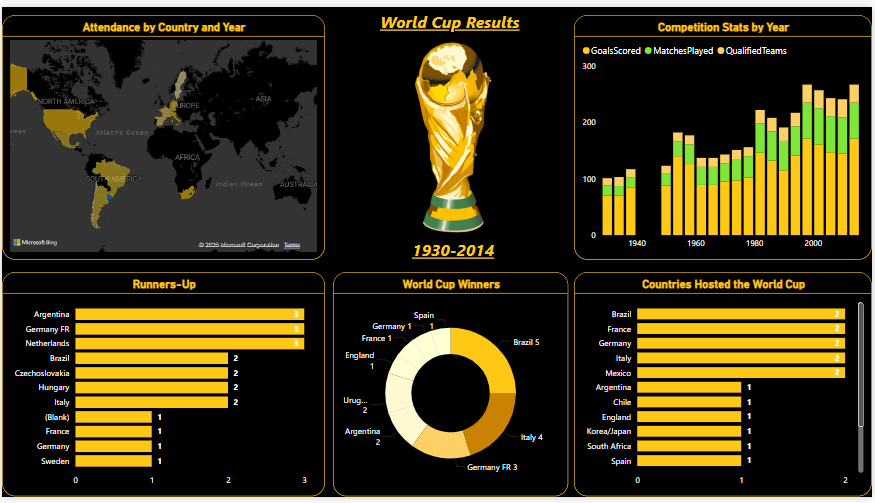

Layout of this report page (visuals, bound fields, positions):
{"tool":"powerbi","page":{"name":"Page 1","canvas":[1280,720],"ordinal":0},"visuals":[{"type":"image","box":[496.1,11.3,335.9,360],"z":0},{"type":"textbox","box":[535.7,0,246.6,48.2],"z":1000},{"type":"textbox","box":[535.7,335.9,256.5,48.2],"z":2000},{"type":"columnChart","title":"Competition Stats by Year","fields":{"Y":["Sum(WorldCups.GoalsScored)","Sum(WorldCups.MatchesPlayed)","Sum(WorldCups.QualifiedTeams)"],"Category":["WorldCups.Year"]},"box":[841.9,11.3,438,360],"z":3000},{"type":"donutChart","title":"World Cup Winners","fields":{"Category":["WorldCups.Winner"],"Y":["CountNonNull(WorldCups.Winner)"]},"box":[486.1,389.8,345.8,330.2],"z":4000},{"type":"barChart","title":"Runners-Up ","fields":{"Y":["Count(WorldCupMatches.Year)"],"Category":["WorldCups.Runners-Up"]},"box":[0,389.8,474.8,330.2],"z":5000},{"type":"barChart","title":"Countries Hosted the World Cup","fields":{"Category":["WorldCups.Country"],"Y":["CountNonNull(WorldCups.Country)"]},"box":[841.9,389.8,438,330.2],"z":5001},{"type":"filledMap","title":"Attendance by Country and Year","fields":{"Category":["WorldCups.Country"],"Series":["WorldCups.Attendance"]},"box":[0,11.3,474.8,360],"z":5002}]}

Visuals, with their boxes in screenshot pixels (x1, y1, x2, y2), scaled from the page's 1280x720 canvas onto the 875x503 screenshot:
image: [339,8,569,259]
textbox: [366,0,535,34]
textbox: [366,235,542,268]
"Competition Stats by Year" columnChart: [576,8,874,259]
"World Cup Winners" donutChart: [332,272,569,502]
"Runners-Up " barChart: [0,272,325,502]
"Countries Hosted the World Cup" barChart: [576,272,874,502]
"Attendance by Country and Year" filledMap: [0,8,325,259]
